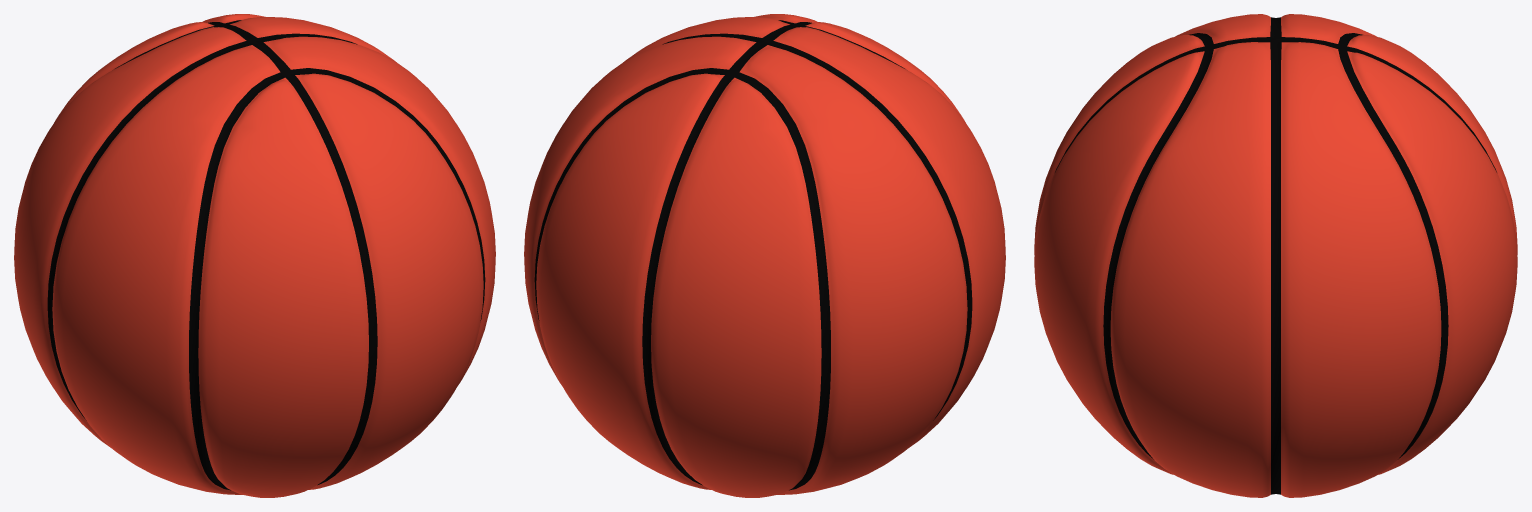
Rendered from basketball1.fbx.
3 renders of one model, left to right at view 1: azimuth 30°, elevation 25°; view 2: azimuth 150°, elevation 25°; view 3: azimuth 270°, elevation 25°, orthographic.
Parts seen in each view (by area): view 1: Cube; view 2: Cube; view 3: Cube.
Part boxes in pixels (<box>): Cube: <box>14,14,495,497</box>; Cube: <box>524,14,1005,497</box>; Cube: <box>1034,14,1517,497</box>.
Bounding box in the file's own units: 162 × 161 × 162.
